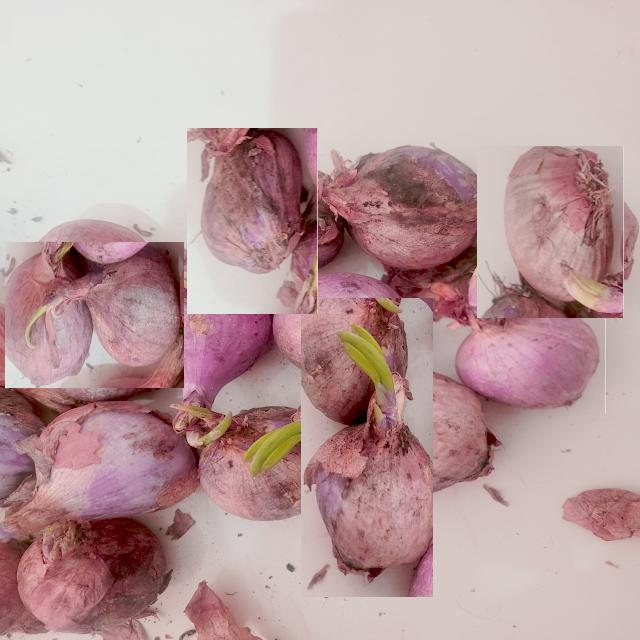healthy: (505, 147, 612, 301), (68, 247, 181, 366), (456, 318, 598, 407), (5, 251, 92, 385), (183, 314, 271, 407)
rotten: (324, 146, 476, 269), (17, 518, 169, 631), (188, 130, 302, 272)
sprouting: (304, 325, 432, 580)
